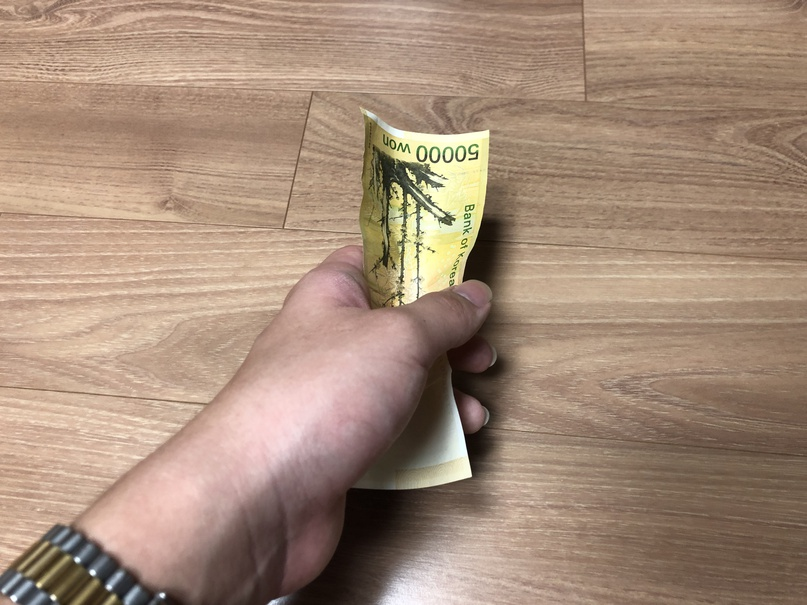50000won: (352, 107, 489, 489)
